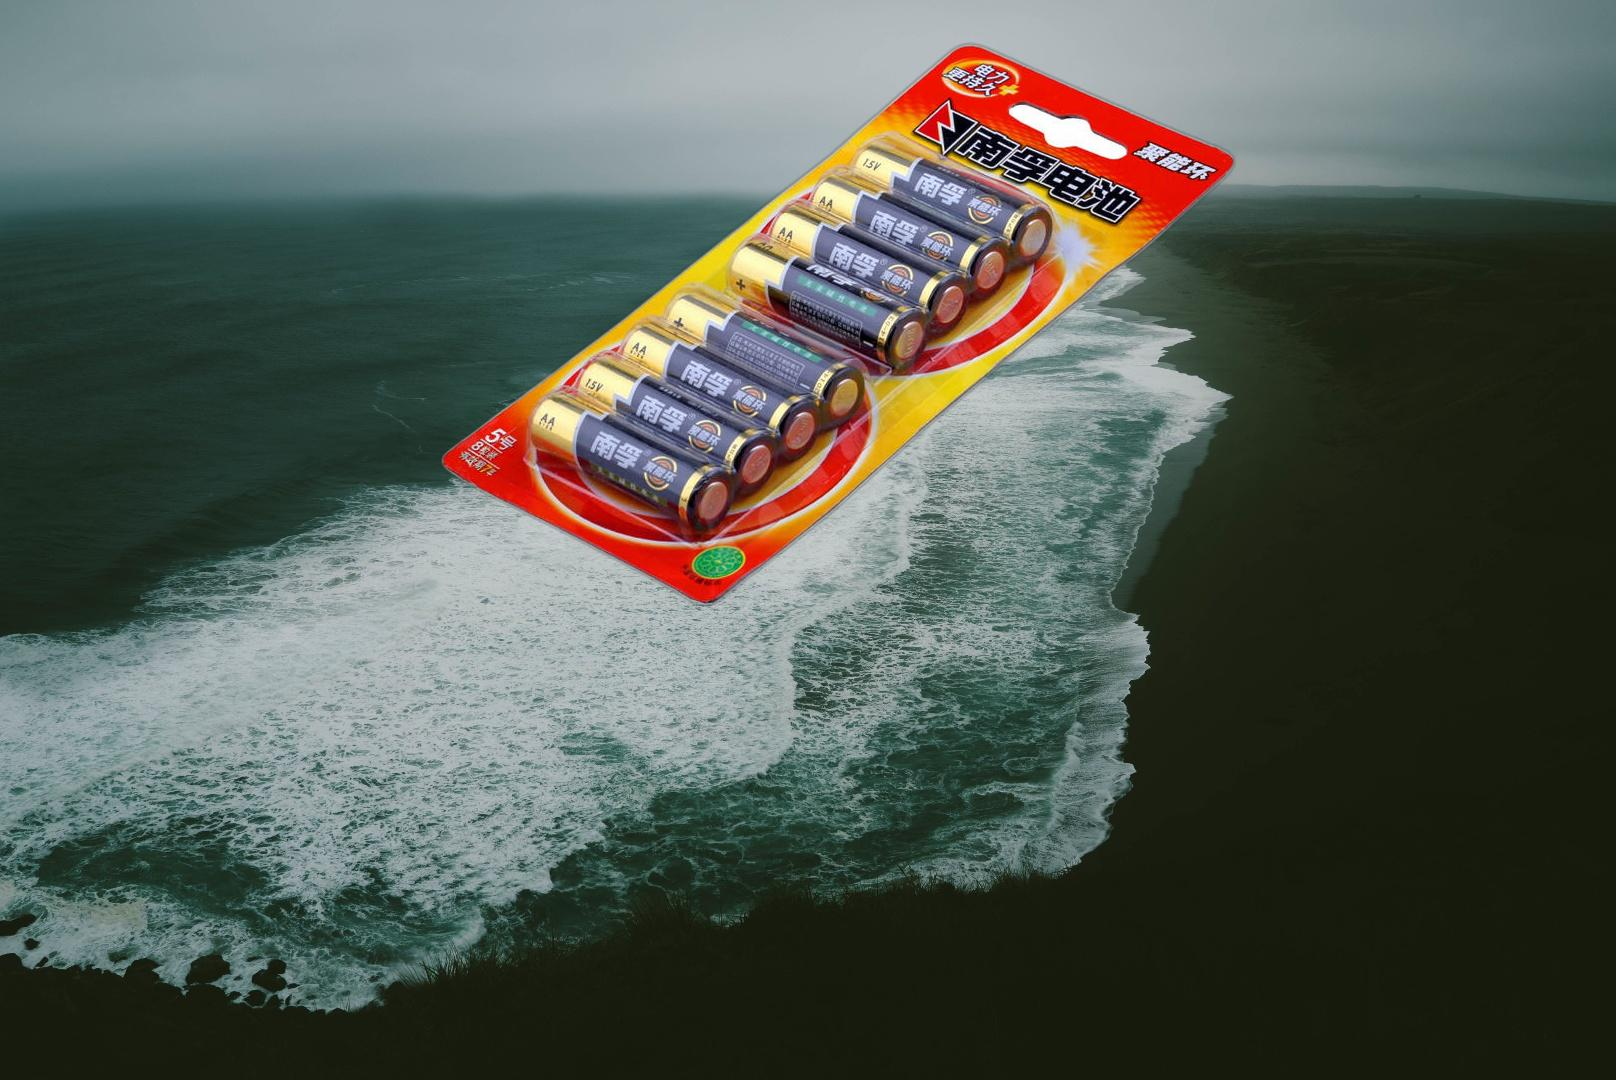battery: (437, 37, 1236, 614)
